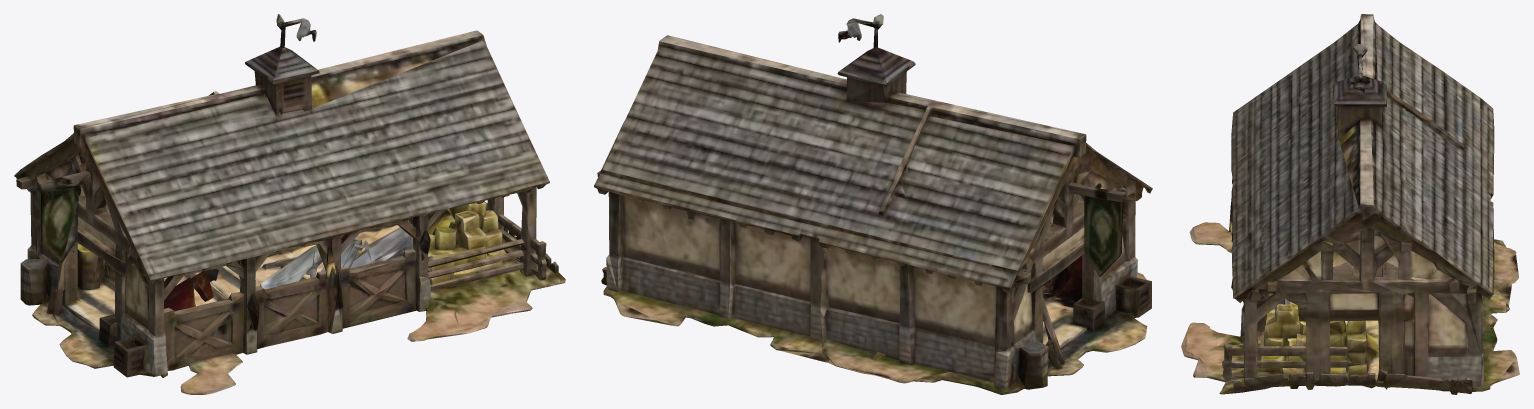
Rendered from horseStable.glb.
The picture shows the model from 3 angles, left to right: view 1: azimuth 30°, elevation 25°; view 2: azimuth 150°, elevation 25°; view 3: azimuth 270°, elevation 25°; orthographic projection. The views are drawn at different scales.
Parts seen in each view (by area): view 1: geometry_0; view 2: geometry_0; view 3: geometry_0.
Boxes of the visible parts, <box> form: geometry_0: <box>14,14,565,394</box>; geometry_0: <box>594,14,1152,394</box>; geometry_0: <box>1181,14,1519,394</box>.
Bounding box in the file's own units: 0.9993 × 0.5818 × 0.6806.
Materials: 1 (1 with a texture image).
